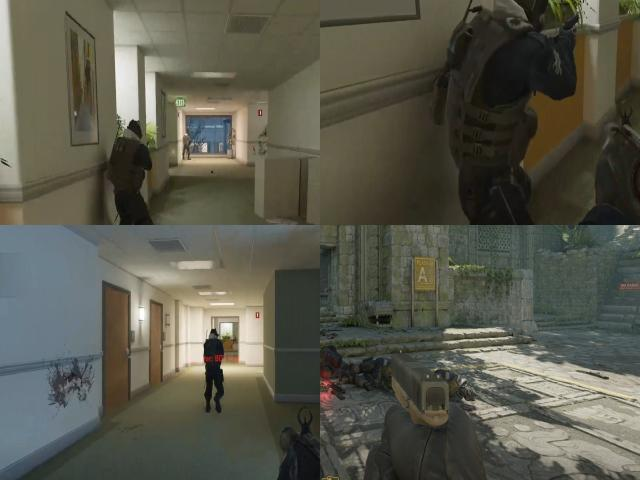Bomb: (320, 377, 334, 399)
CT: (435, 12, 571, 194), (108, 123, 146, 225), (198, 323, 227, 383), (180, 132, 191, 162)
CT-Head: (492, 0, 549, 47), (122, 114, 144, 147), (206, 326, 220, 344)
Dead: (433, 371, 491, 403), (352, 354, 395, 394), (320, 338, 352, 387)
